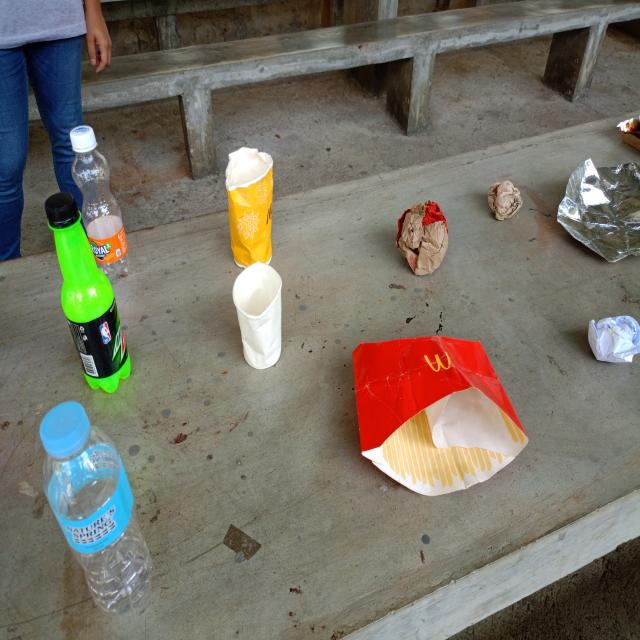Anorganik: (34, 397, 158, 623), (43, 188, 134, 395), (68, 122, 131, 281)
Organik: (349, 336, 532, 498), (555, 154, 640, 266), (224, 144, 276, 272), (230, 257, 286, 373), (395, 194, 451, 279), (583, 307, 640, 367), (483, 177, 524, 221)
